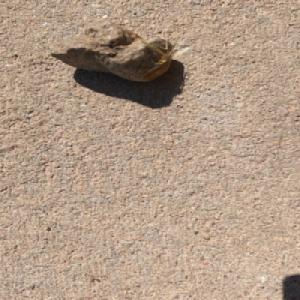Rock: (49, 18, 175, 82)
